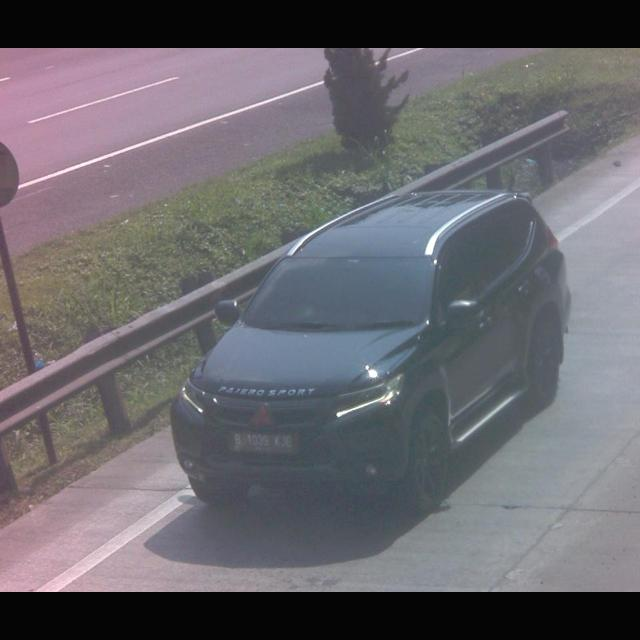plate: (226, 429, 298, 455)
